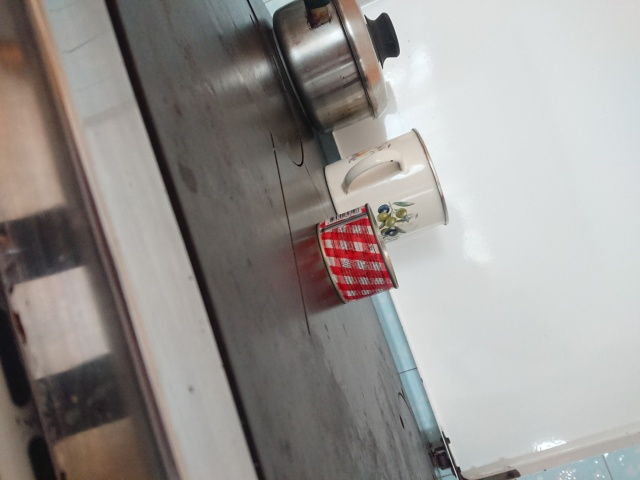Podravka Luncheon Meat 150g: (312, 199, 401, 306)
